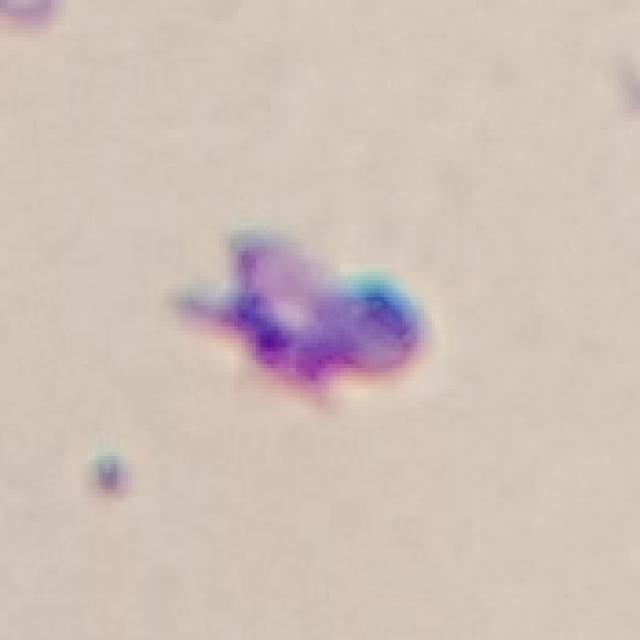non-sperm: (160, 222, 441, 418)
